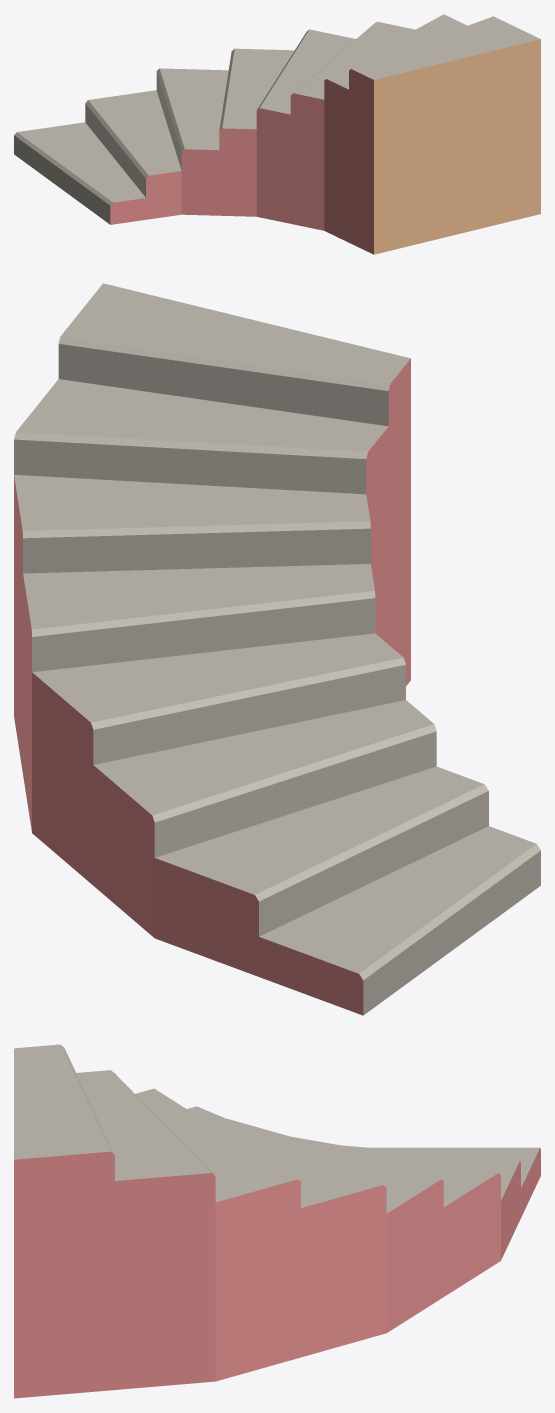
Rendered from Tiered_Walkway_Steps_Curve_Short_2x2.glb.
3 views of the same model, one above another, from view 1: azimuth 30°, elevation 25°; view 2: azimuth 150°, elevation 25°; view 3: azimuth 270°, elevation 25° (orthographic). The views are drawn at different scales.
Visible parts, largest first — view 1: Tiered_Walkway_Steps_Curve_Short_2x2; view 2: Tiered_Walkway_Steps_Curve_Short_2x2; view 3: Tiered_Walkway_Steps_Curve_Short_2x2.
Boxes of the visible parts, left/top/right/bottom form: Tiered_Walkway_Steps_Curve_Short_2x2: left=14, top=14, right=540, bottom=254; Tiered_Walkway_Steps_Curve_Short_2x2: left=14, top=283, right=540, bottom=1015; Tiered_Walkway_Steps_Curve_Short_2x2: left=14, top=1044, right=540, bottom=1398.
Size of the model in its own units: 200 by 100 by 200.
